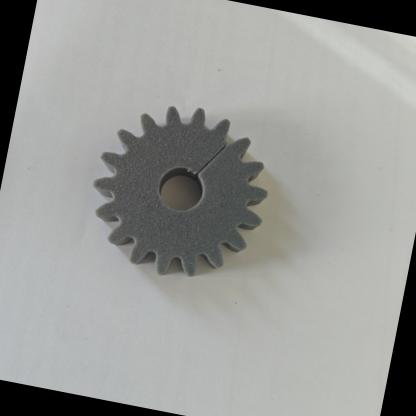defect: (169, 113, 265, 211)
gear: (70, 81, 315, 312)
